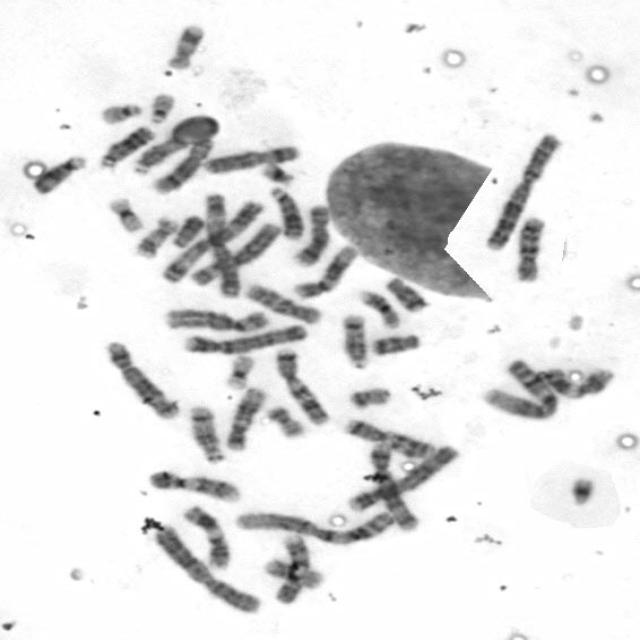A1: (230, 505, 398, 546), (476, 357, 561, 422)
A2: (148, 522, 262, 615), (480, 128, 563, 252)
A3: (155, 197, 267, 286), (203, 190, 246, 300)
B4: (342, 440, 462, 513), (177, 320, 310, 356)
B5: (100, 336, 182, 422), (364, 439, 420, 533)
C10: (241, 279, 323, 326), (510, 212, 547, 284)
C11: (513, 361, 615, 400), (179, 502, 233, 570)
C12: (290, 241, 360, 300), (220, 383, 268, 452)
C6: (184, 219, 283, 288), (160, 304, 272, 334)
C7: (270, 345, 332, 427), (340, 416, 436, 458)
C8: (148, 135, 216, 195), (288, 200, 334, 268)
C9: (144, 466, 242, 504), (268, 532, 313, 605)
D13: (93, 122, 157, 172), (266, 184, 305, 242)
D14: (182, 401, 226, 465), (338, 310, 370, 370)
D15: (130, 131, 196, 178), (29, 152, 90, 195)
E16: (260, 554, 326, 590), (355, 287, 401, 329)
E17: (129, 212, 180, 260), (164, 21, 207, 71)
E18: (381, 273, 430, 313), (367, 330, 422, 358)
F19: (103, 193, 146, 234), (220, 352, 256, 390)
F20: (262, 402, 308, 439), (345, 384, 393, 410)
G21: (564, 472, 598, 508), (257, 158, 296, 186)
G22: (95, 100, 145, 126), (144, 89, 178, 125)
X: (199, 142, 303, 175)
Y: (168, 212, 206, 249)
